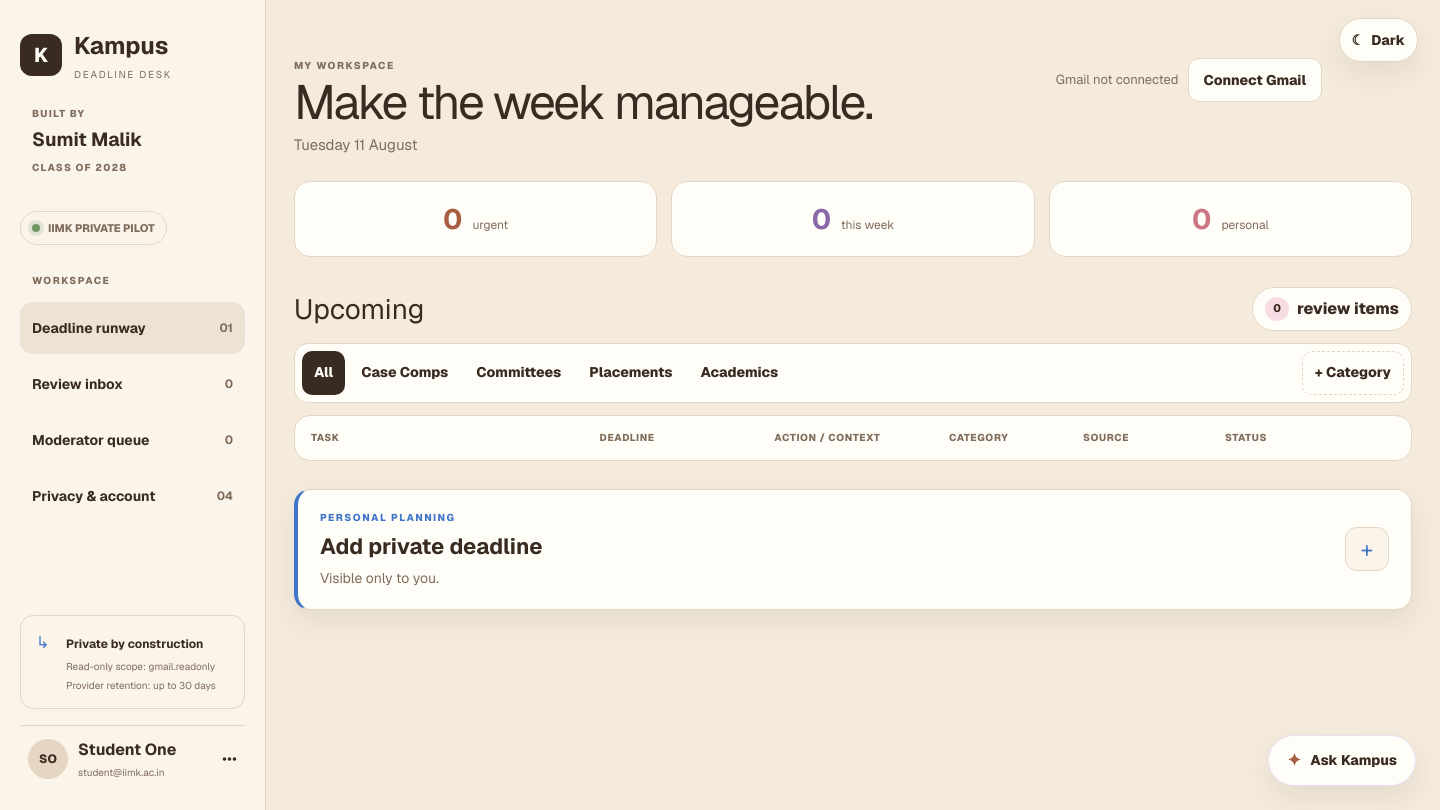
Scenario: dashboard keyboard behavior › gives the moderator publisher its own readable form layout
Click the button "Moderator queue 0" at x=132, y=440, box [20,414,245,466]
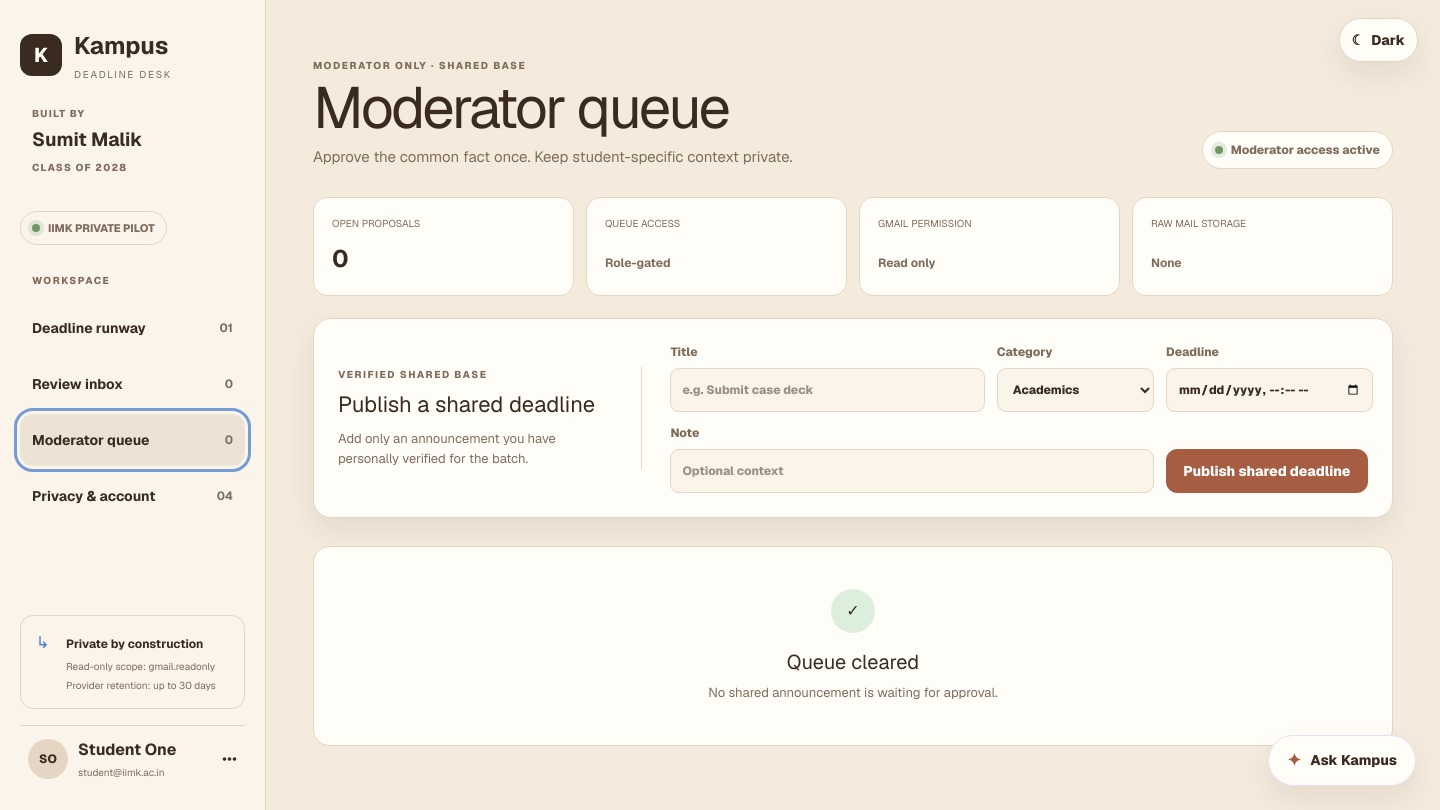
Check: the text "Moderator access active" is shown, box [1202,131,1393,169]
